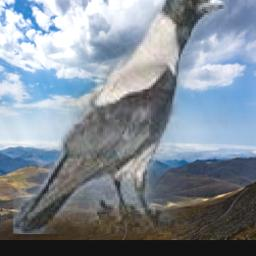Crow: (14, 0, 229, 234)
